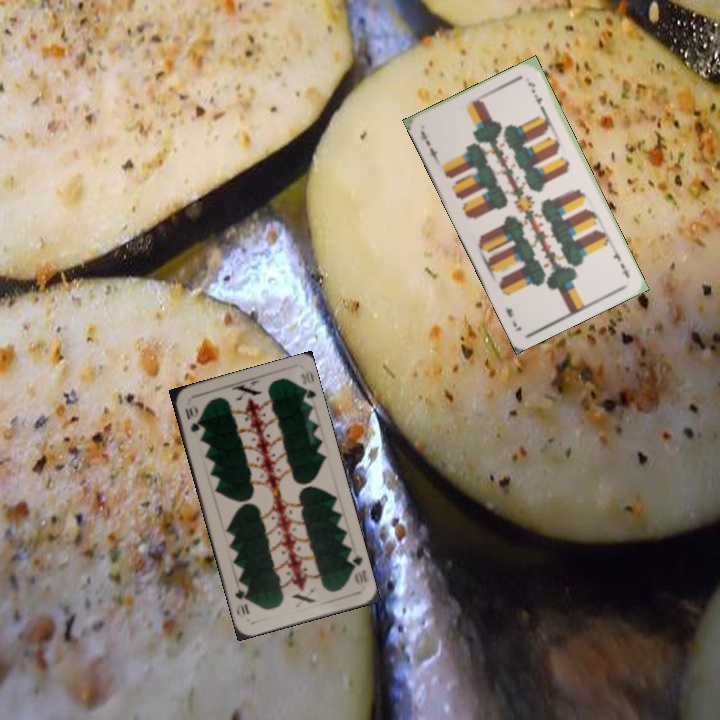E7: (607, 243, 633, 281), (417, 127, 441, 165)
G10: (343, 551, 371, 587), (181, 401, 202, 435)
